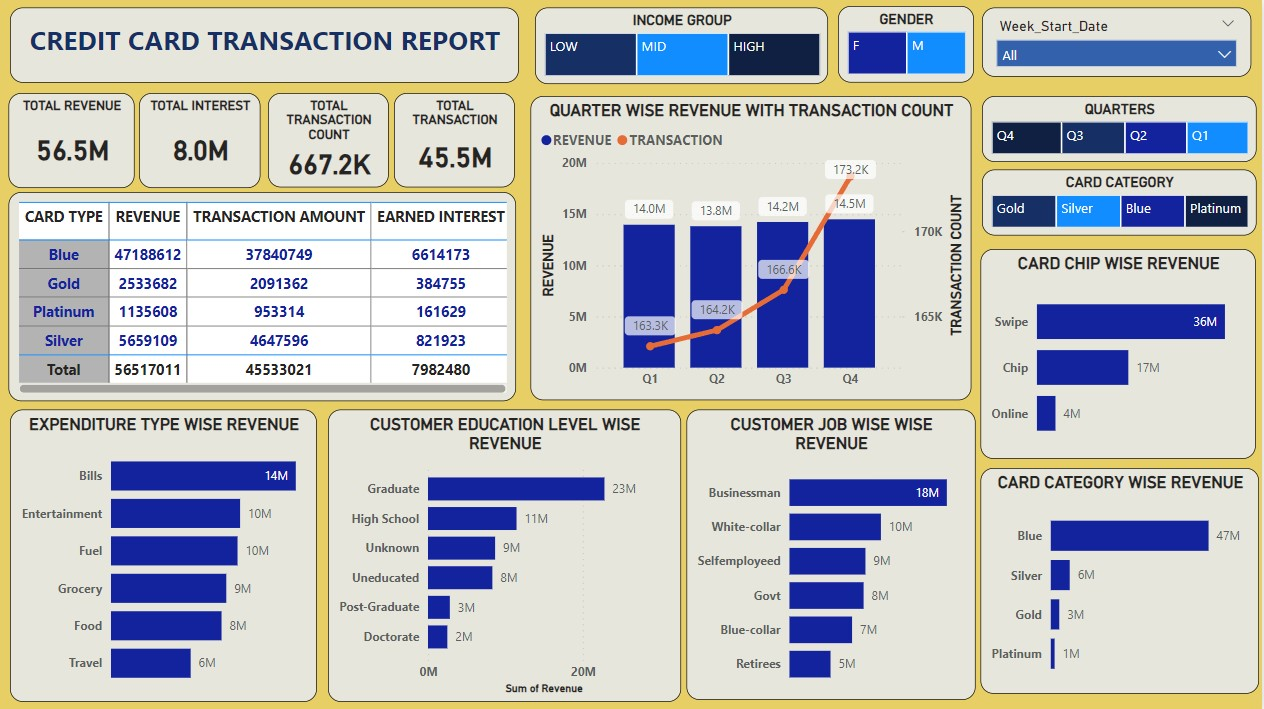

The page's visual inventory and layout, read from the dashboard file:
{"tool":"powerbi","page":{"name":"Page 2","canvas":[1280,720],"ordinal":1},"visuals":[{"type":"textbox","box":[15,7,514,76],"z":0},{"type":"lineStackedColumnComboChart","title":"QUARTER WISE REVENUE WITH TRANSACTION COUNT","fields":{"Category":["credit_card credit_card_details.Qtr"],"Y":["Sum(credit_card credit_card_details.Revenue)"],"Y2":["Sum(credit_card credit_card_details.Total_Trans_Ct)"]},"box":[540.6,96.9,445.2,307.4],"z":1000},{"type":"barChart","title":"EXPENDITURE TYPE WISE REVENUE","fields":{"Category":["credit_card credit_card_details.Exp_Type"],"Y":["Sum(credit_card credit_card_details.Revenue)"]},"box":[15,413.3,310,295],"z":2000},{"type":"barChart","title":"CUSTOMER EDUCATION LEVEL WISE REVENUE","fields":{"Category":["credit_card cust_details.Education_Level"],"Y":["Sum(credit_card credit_card_details.Revenue)"]},"box":[336.7,413.3,356.7,295],"z":3000},{"type":"barChart","title":"CUSTOMER JOB WISE WISE REVENUE","fields":{"Category":["credit_card cust_details.Customer_Job"],"Y":["Sum(credit_card credit_card_details.Revenue)"]},"box":[698.3,413.3,291.7,293.3],"z":4000},{"type":"barChart","title":"CARD CATEGORY  WISE REVENUE","fields":{"Category":["credit_card credit_card_details.Card_Category"],"Y":["Sum(credit_card credit_card_details.Revenue)"]},"box":[994.8,472.4,281.6,228],"z":5000},{"type":"barChart","title":"CARD CHIP  WISE REVENUE","fields":{"Category":["credit_card credit_card_details.Use_Chip"],"Y":["Sum(credit_card credit_card_details.Revenue)"]},"box":[994.8,251.4,278,212],"z":6000},{"type":"tableEx","fields":{"Values":["credit_card credit_card_details.Card_Category","Sum(credit_card credit_card_details.Revenue)","Sum(credit_card credit_card_details.Total_Trans_Amt)","Sum(credit_card credit_card_details.Interest_Earned)"]},"box":[14.3,194,512.9,211.4],"z":7000},{"type":"card","title":"TOTAL REVENUE","fields":{"Values":["Sum(credit_card credit_card_details.Revenue)"]},"box":[14.3,94,127.1,95.7],"z":8000},{"type":"card","title":"TOTAL TRANSACTION","fields":{"Values":["Sum(credit_card credit_card_details.Total_Trans_Amt)"]},"box":[403,94,122,95],"z":9000},{"type":"card","title":"TOTAL INTEREST","fields":{"Values":["Sum(credit_card credit_card_details.Interest_Earned)"]},"box":[146,94,122.9,95.7],"z":10000},{"type":"card","title":"TOTAL TRANSACTION COUNT","fields":{"Values":["Sum(credit_card credit_card_details.Total_Trans_Ct)"]},"box":[275,94,122,95],"z":11000},{"type":"slicer","fields":{"Values":["credit_card credit_card_details.Week_Start_Date"]},"box":[996.3,8,272,70],"z":12000},{"type":"treemap","title":"QUARTERS","fields":{"Group":["credit_card credit_card_details.Qtr"],"Values":["Avg(credit_card credit_card_details.Client_Num)"]},"box":[996.3,96.9,277,66.6],"z":13000},{"type":"treemap","title":"GENDER","fields":{"Values":["Avg(credit_card credit_card_details.Client_Num)"],"Group":["credit_card cust_details.Gender"]},"box":[851,6,137,77],"z":14000},{"type":"treemap","title":"CARD CATEGORY","fields":{"Group":["credit_card credit_card_details.Card_Category"],"Values":["Avg(credit_card credit_card_details.Client_Num)"]},"box":[996.3,171,277,66.6],"z":15000},{"type":"treemap","title":"INCOME GROUP","fields":{"Group":["credit_card cust_details.incomegrp"],"Values":["Avg(credit_card credit_card_details.Client_Num)"]},"box":[545,7,296,77],"z":16000}]}

Visuals, with their boxes in screenshot pixels (x1, y1, x2, y2), scaled from the page's 1280x720 canvas onto the 1264x709 screenshot:
textbox: Rect(15, 7, 522, 82)
"QUARTER WISE REVENUE WITH TRANSACTION COUNT" lineStackedColumnComboChart: Rect(534, 95, 973, 398)
"EXPENDITURE TYPE WISE REVENUE" barChart: Rect(15, 407, 321, 697)
"CUSTOMER EDUCATION LEVEL WISE REVENUE" barChart: Rect(332, 407, 685, 697)
"CUSTOMER JOB WISE WISE REVENUE" barChart: Rect(690, 407, 978, 696)
"CARD CATEGORY  WISE REVENUE" barChart: Rect(982, 465, 1260, 690)
"CARD CHIP  WISE REVENUE" barChart: Rect(982, 248, 1257, 456)
tableEx - credit_card credit_card_details.Card_Category x Sum(credit_card credit_card_details.Revenue): Rect(14, 191, 521, 399)
"TOTAL REVENUE" card: Rect(14, 93, 140, 187)
"TOTAL TRANSACTION" card: Rect(398, 93, 518, 186)
"TOTAL INTEREST" card: Rect(144, 93, 266, 187)
"TOTAL TRANSACTION COUNT" card: Rect(272, 93, 392, 186)
slicer - credit_card credit_card_details.Week_Start_Date: Rect(984, 8, 1252, 77)
"QUARTERS" treemap: Rect(984, 95, 1257, 161)
"GENDER" treemap: Rect(840, 6, 976, 82)
"CARD CATEGORY" treemap: Rect(984, 168, 1257, 234)
"INCOME GROUP" treemap: Rect(538, 7, 830, 83)
